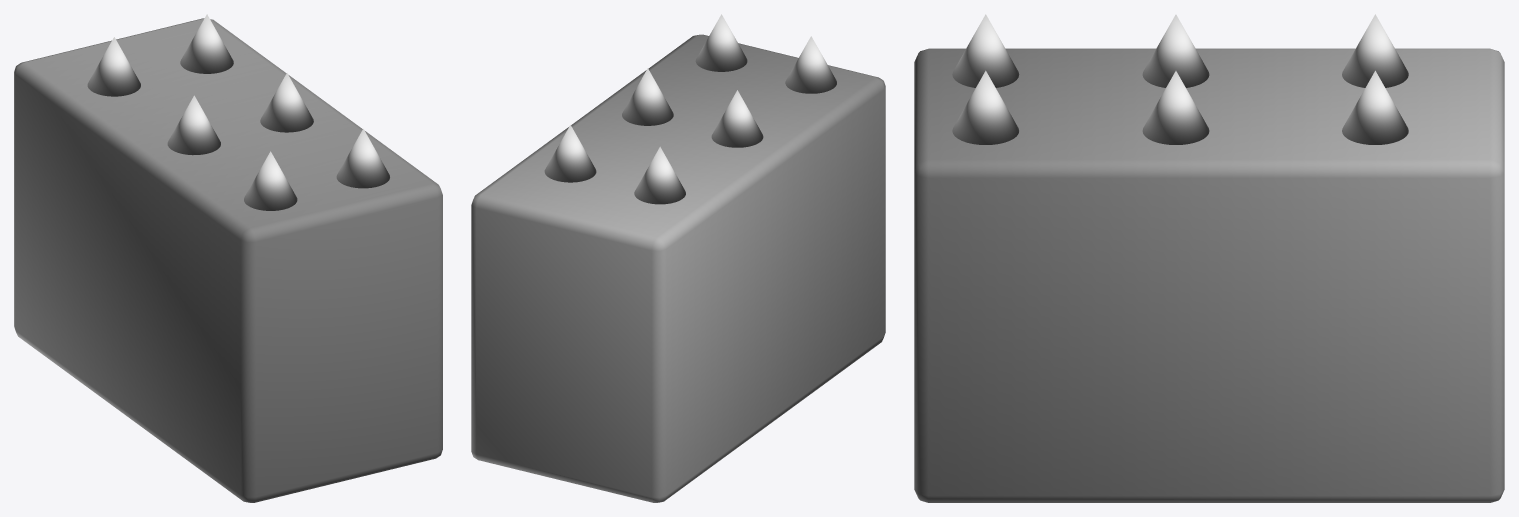
Rendered from Spike_wall.fbx.
3 renders of one model, left to right at view 1: azimuth 30°, elevation 25°; view 2: azimuth 150°, elevation 25°; view 3: azimuth 270°, elevation 25°, orthographic. The views are drawn at different scales.
Parts seen in each view (by area): view 1: Trap1.009; view 2: Trap1.009; view 3: Trap1.009.
Boxes of the visible parts, x1,y1,x2,y2 form: Trap1.009: (14, 14, 442, 502); Trap1.009: (471, 14, 885, 502); Trap1.009: (914, 14, 1504, 502).
Bounding box in the file's own units: 156 × 241 × 319.
